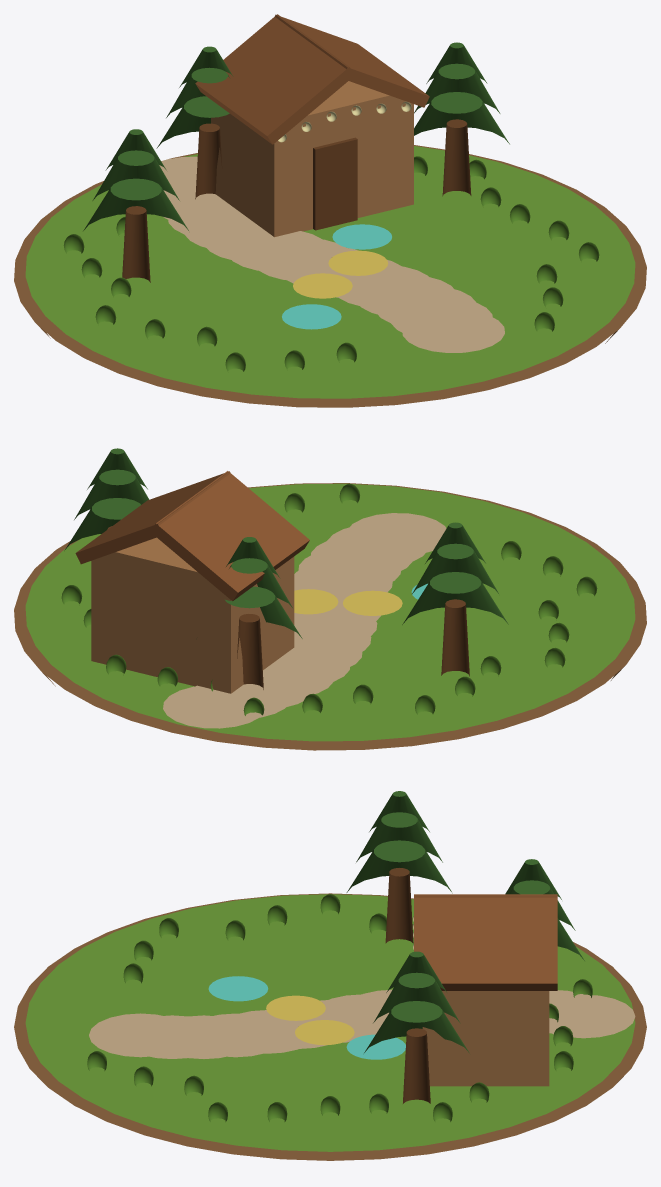
The model's file is scene2_house_clay.glb.
The picture shows the model from 3 angles, top to bottom: view 1: azimuth 30°, elevation 25°; view 2: azimuth 150°, elevation 25°; view 3: azimuth 270°, elevation 25°; orthographic projection.
Parts seen in each view (by area): view 1: ClayAsset; view 2: ClayAsset; view 3: ClayAsset.
Boxes of the visible parts, box(x1,y1,x2,y2) form: ClayAsset: box(14, 14, 646, 407); ClayAsset: box(14, 448, 646, 750); ClayAsset: box(14, 791, 646, 1160).
Size of the model in its own units: 11 by 3.47 by 11.
